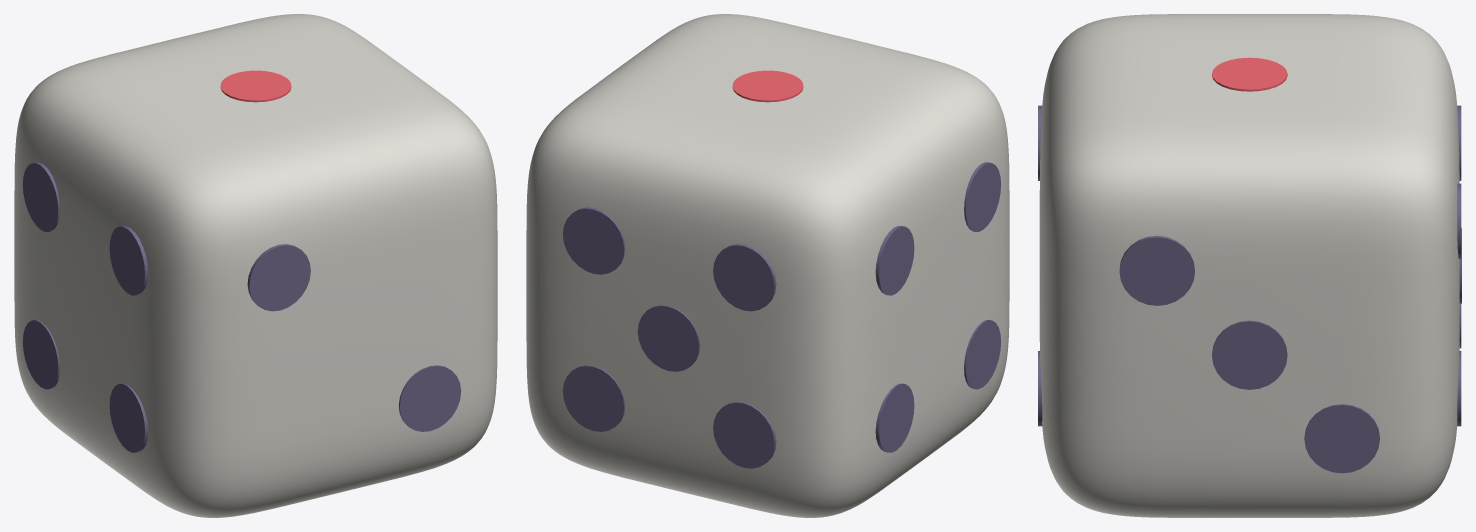
The model's file is dice.glb.
The picture shows the model from 3 angles, left to right: view 1: azimuth 30°, elevation 25°; view 2: azimuth 150°, elevation 25°; view 3: azimuth 270°, elevation 25°; orthographic projection. The views are drawn at different scales.
Parts seen in each view (by area): view 1: dice_body, dice_pips, dice_pip_red; view 2: dice_body, dice_pips, dice_pip_red; view 3: dice_body, dice_pips, dice_pip_red.
Boxes of the visible parts, <box> form: dice_body: <box>14,14,497,517</box>; dice_pips: <box>22,162,461,452</box>; dice_pip_red: <box>220,70,291,102</box>; dice_body: <box>526,14,1009,517</box>; dice_pips: <box>562,162,1001,468</box>; dice_pip_red: <box>732,70,803,102</box>; dice_body: <box>1039,14,1459,517</box>; dice_pips: <box>1038,105,1461,473</box>; dice_pip_red: <box>1212,57,1287,91</box>.
Size of the model in its own units: 1.01 by 1.01 by 1.01.
